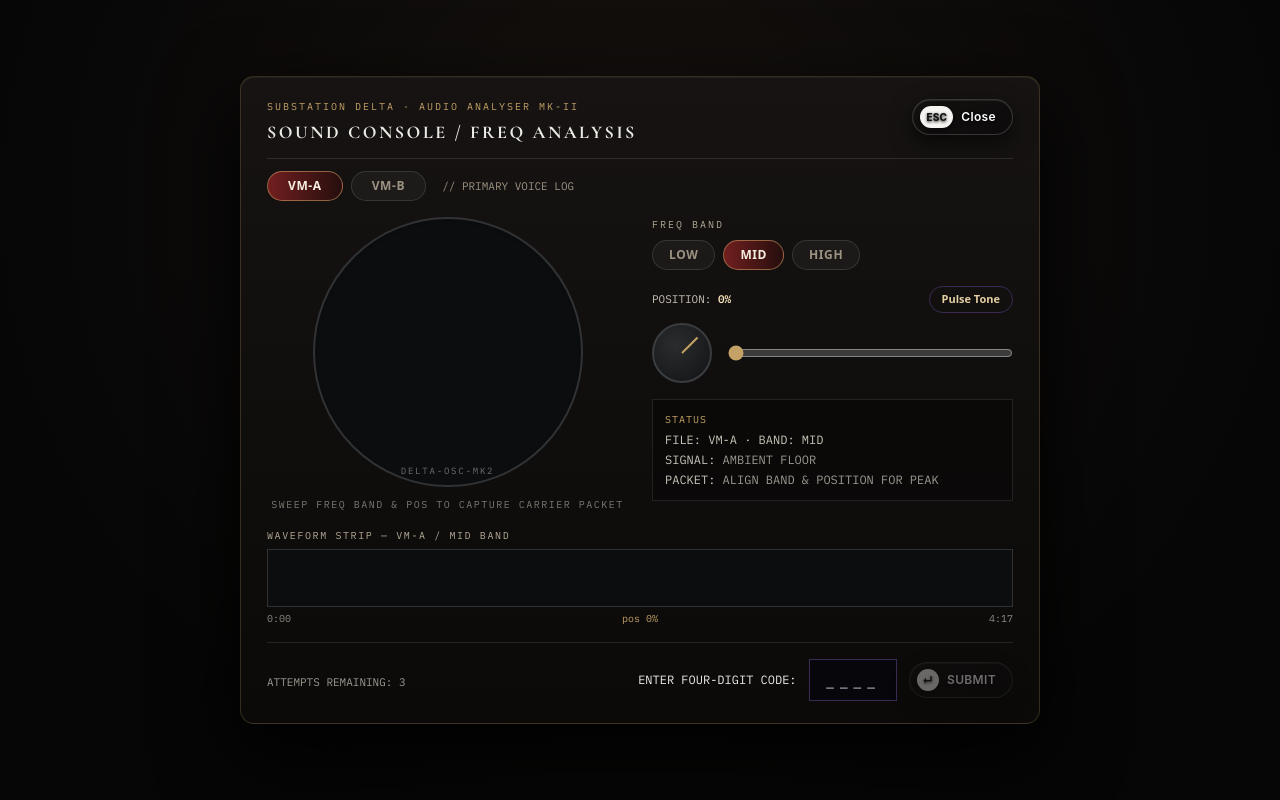
Test: Room 5 (The Surveillance Morgue) Frontend Test Suite › QA-R5-FE-44: SpectrogramModal tab switch from VM-A to VM-B
Click the button "VM-B" at x=388, y=186, box [351,171,426,201]
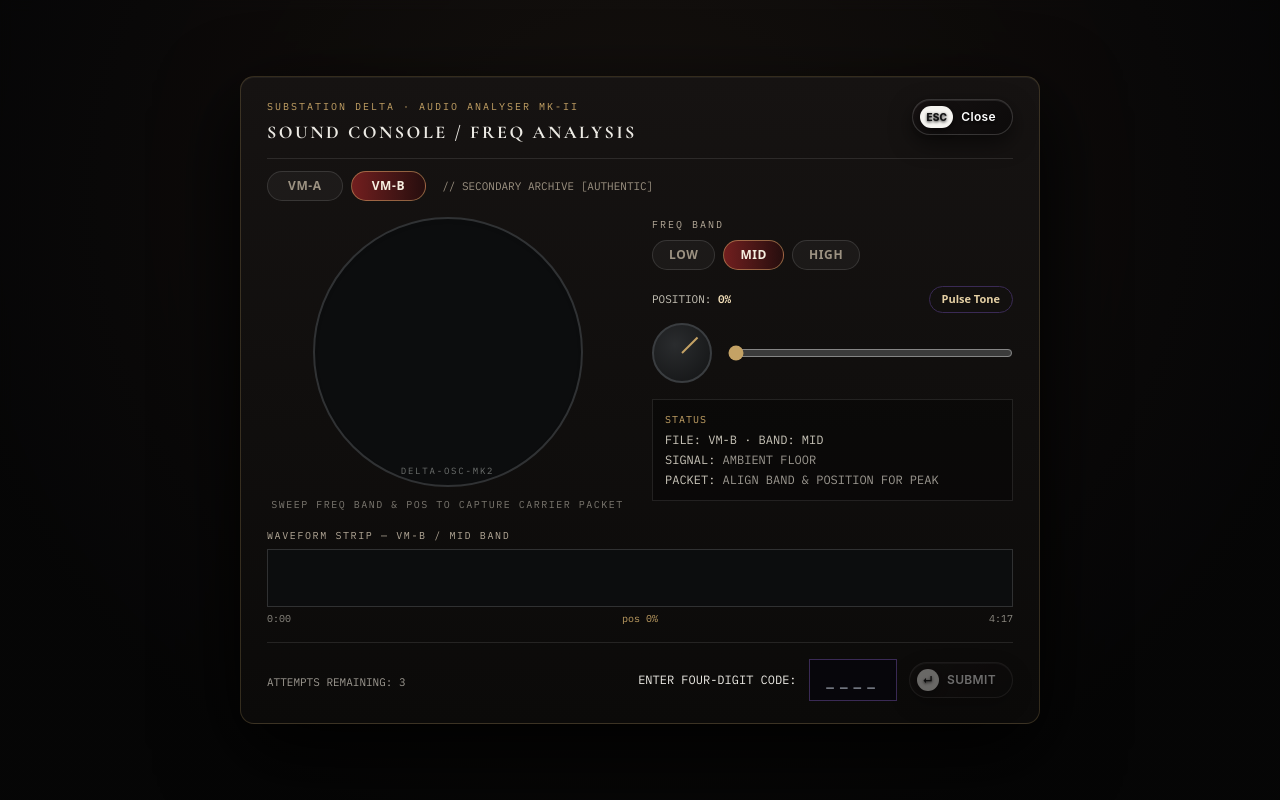
Expected: the text "// SECONDARY ARCHIVE [AUTHENTIC]" is shown, [442,178,653,194]
